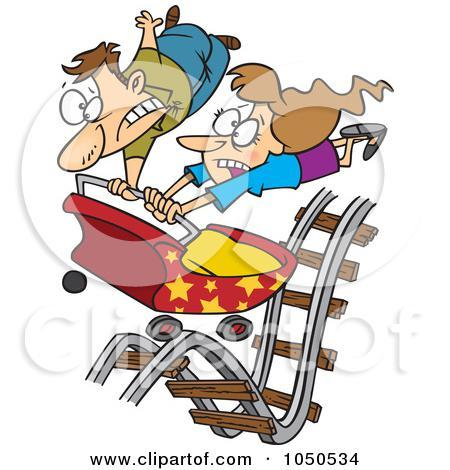person: (39, 5, 237, 190), (166, 73, 404, 217)
